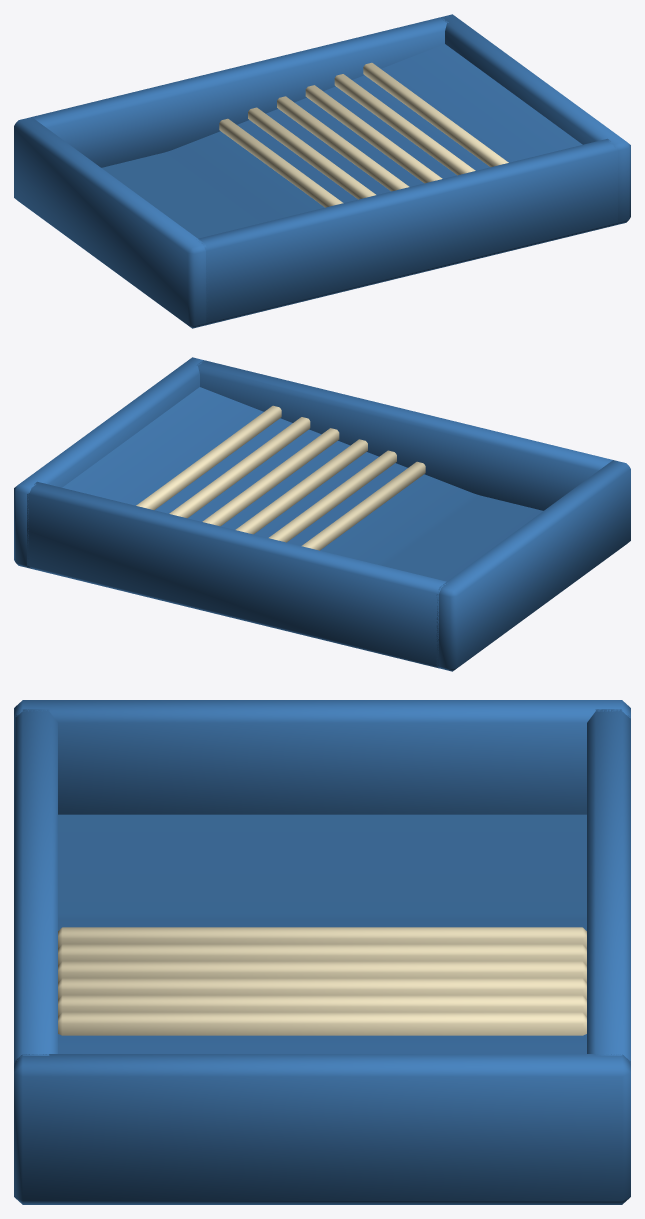
File: SM_PaintTray_01.glb
3 renders of one model, top to bottom at view 1: azimuth 30°, elevation 25°; view 2: azimuth 150°, elevation 25°; view 3: azimuth 270°, elevation 25°, orthographic. The views are drawn at different scales.
Parts seen in each view (by area): view 1: SM_PaintTray_01; view 2: SM_PaintTray_01; view 3: SM_PaintTray_01.
Boxes of the visible parts, x1,y1,x2,y2 form: SM_PaintTray_01: [14, 14, 630, 328]; SM_PaintTray_01: [14, 357, 630, 671]; SM_PaintTray_01: [14, 700, 630, 1204].
Size of the model in its own units: 0.4 by 0.07 by 0.28.
Materials: 1 (1 with a texture image).
